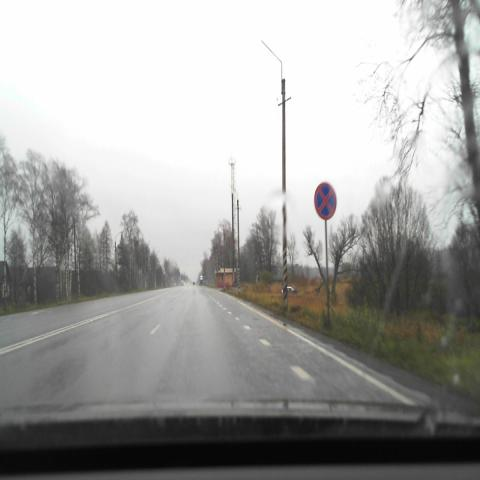3_27: (314, 183, 336, 220)
